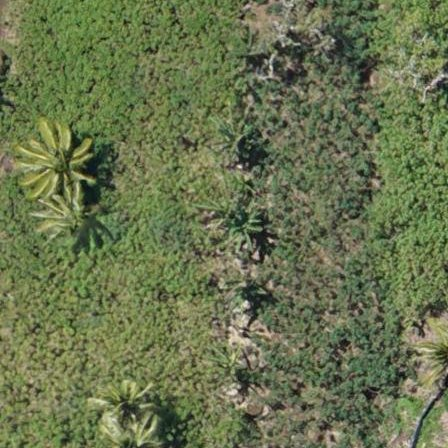palm_tree: (12, 114, 100, 209), (96, 372, 158, 438), (40, 189, 105, 251)
